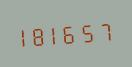eight: (33, 22, 48, 48)
five: (82, 18, 97, 44)
one: (17, 23, 32, 49), (50, 21, 65, 47)
seven: (98, 17, 113, 43)
six: (66, 20, 81, 45)
